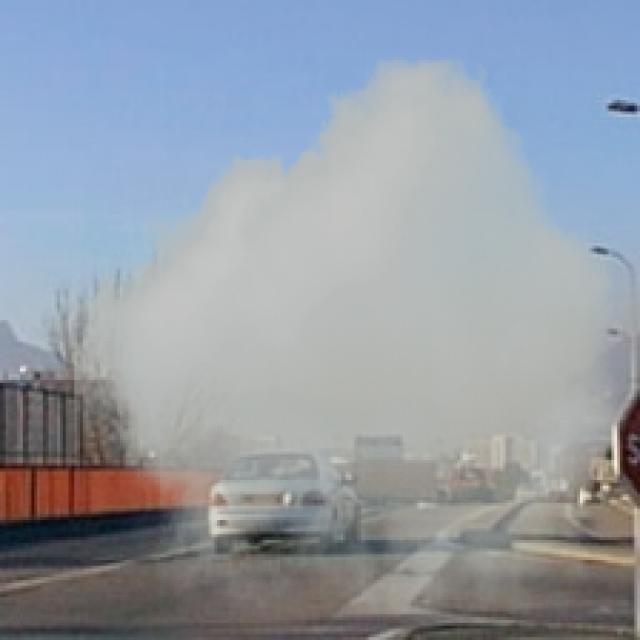smoke: (74, 57, 623, 614)
